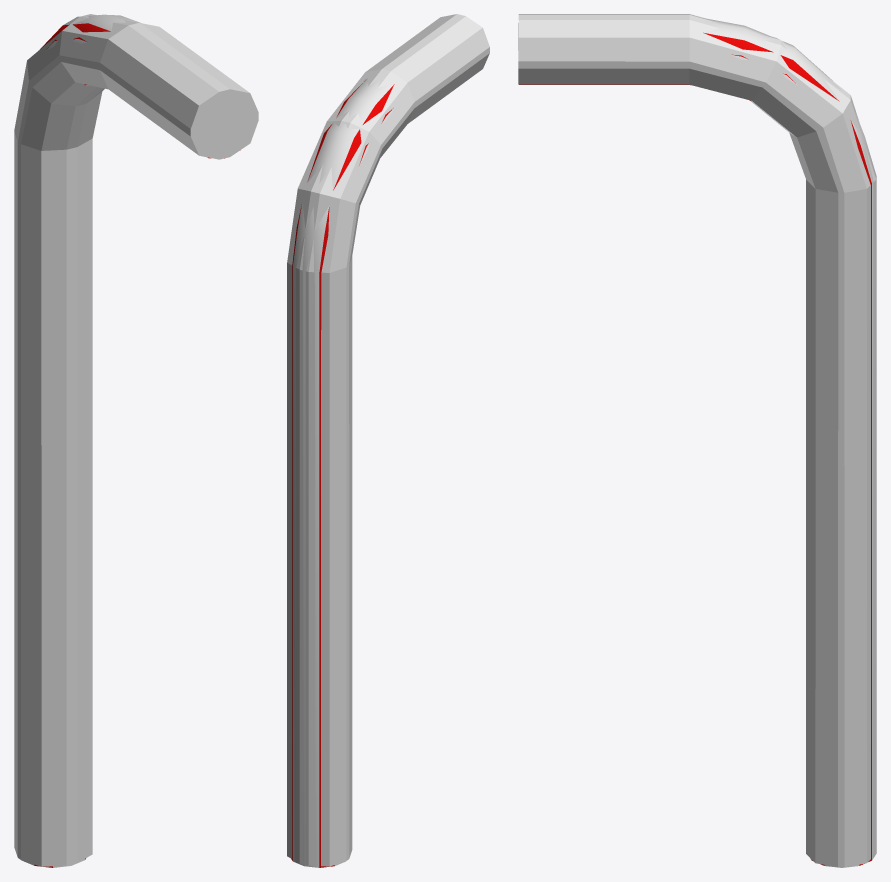
Rendered from canudo (1).fbx.
3 views of the same model, side by side, from view 1: azimuth 30°, elevation 25°; view 2: azimuth 150°, elevation 25°; view 3: azimuth 270°, elevation 25° (orthographic). The views are drawn at different scales.
Visible parts, largest first — view 1: Cube, Torus; view 2: Cube, Torus; view 3: Cube, Torus.
Boxes of the visible parts, box(x1,y1,x2,y2) form: Cube: box(14, 14, 258, 866); Torus: box(22, 14, 240, 867); Cube: box(287, 14, 489, 866); Torus: box(291, 78, 394, 867); Cube: box(518, 14, 876, 866); Torus: box(519, 18, 876, 867).
Size of the model in its own units: 17.21 by 215 by 83.46.
